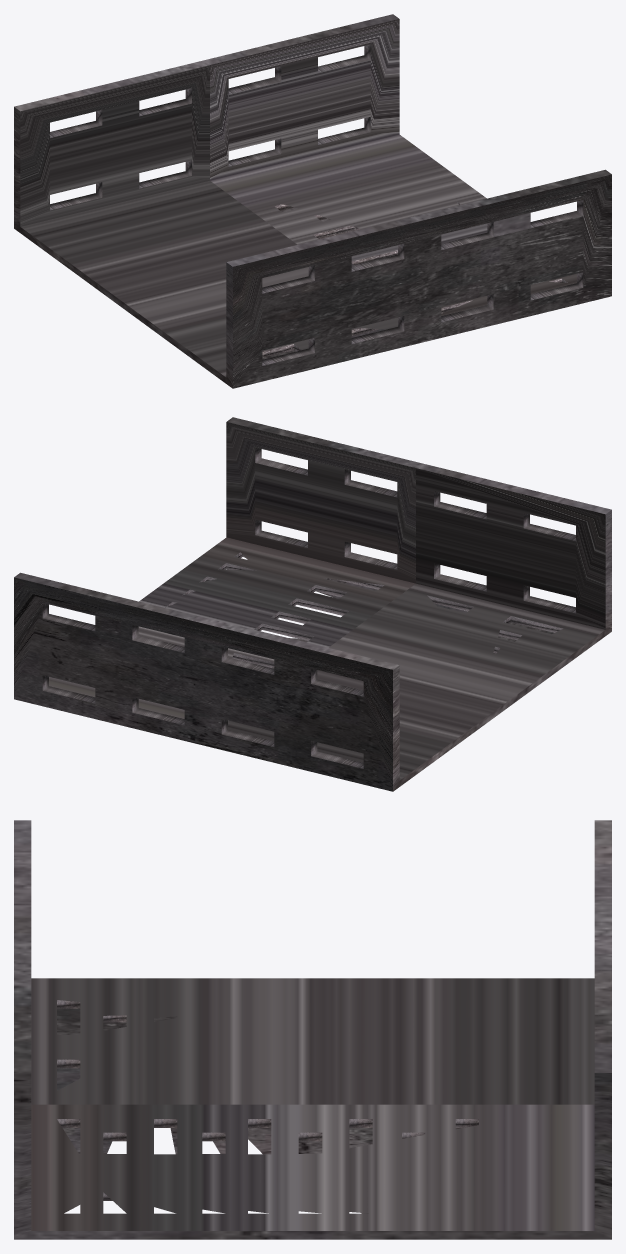
File: KabloSacDüz.fbx
The picture shows the model from 3 angles, top to bottom: view 1: azimuth 30°, elevation 25°; view 2: azimuth 150°, elevation 25°; view 3: azimuth 270°, elevation 25°; orthographic projection. The views are drawn at different scales.
Visible parts, largest first — view 1: Cube; view 2: Cube; view 3: Cube.
Boxes of the visible parts, x1,y1,x2,y2 form: Cube: (14,14,611,388); Cube: (14,417,611,791); Cube: (14,820,611,1239).
Size of the model in its own units: 30 by 9.22 by 30.
1 material, 1 textured.
